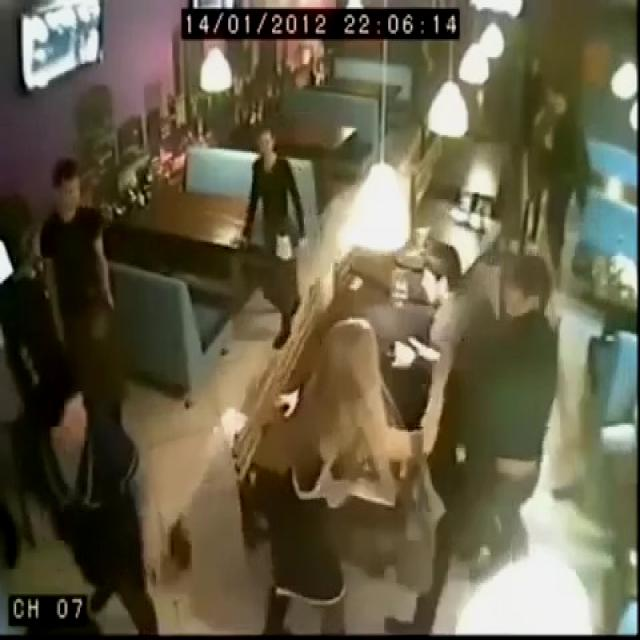fight: (350, 160, 560, 417)
